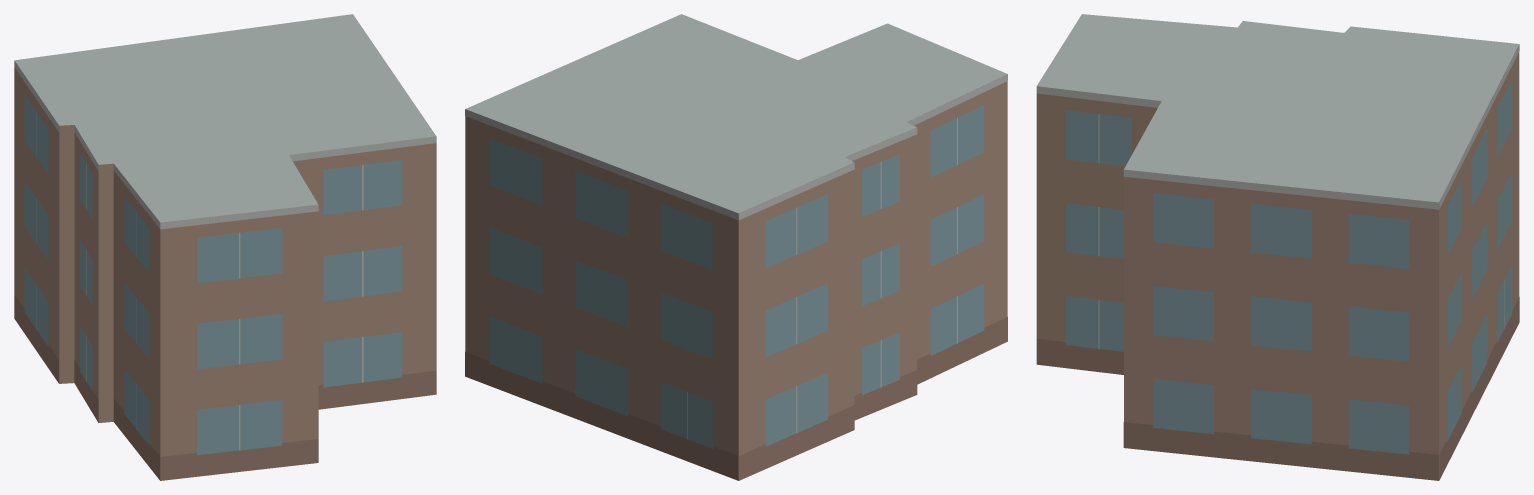
The model's file is survey-upis-32844970.glb.
3 views of the same model, side by side, from view 1: azimuth 30°, elevation 25°; view 2: azimuth 150°, elevation 25°; view 3: azimuth 270°, elevation 25° (orthographic). The views are drawn at different scales.
Parts seen in each view (by area): view 1: survey-upis-32844970.tmp; view 2: survey-upis-32844970.tmp; view 3: survey-upis-32844970.tmp.
Part boxes in pixels (bbox=[...]): survey-upis-32844970.tmp: bbox=[14, 14, 436, 480]; survey-upis-32844970.tmp: bbox=[465, 14, 1007, 480]; survey-upis-32844970.tmp: bbox=[1036, 14, 1519, 480].
Size of the model in its own units: 13.63 by 9.38 by 14.76.
